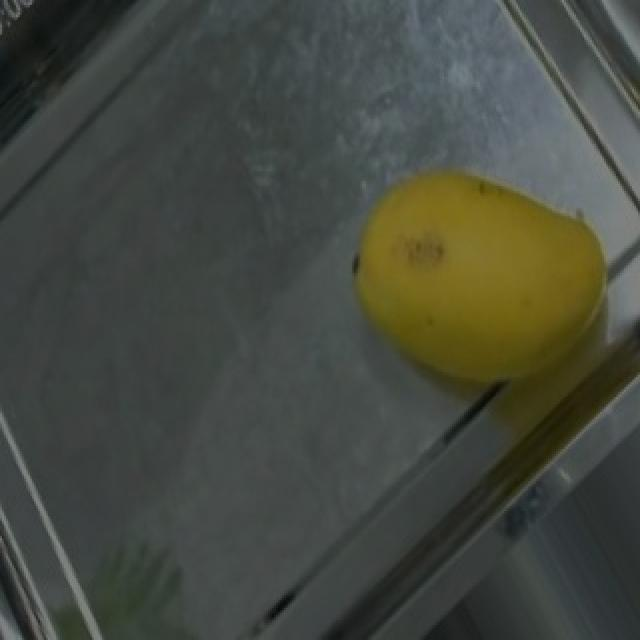fruit: (288, 109, 640, 474)
